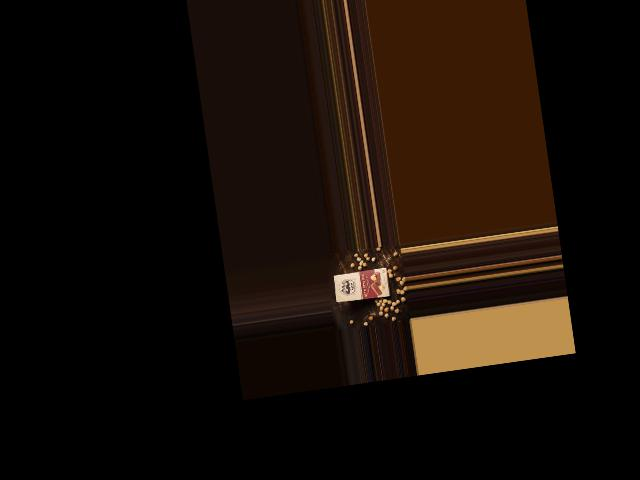chocolate: (331, 265, 392, 306)
